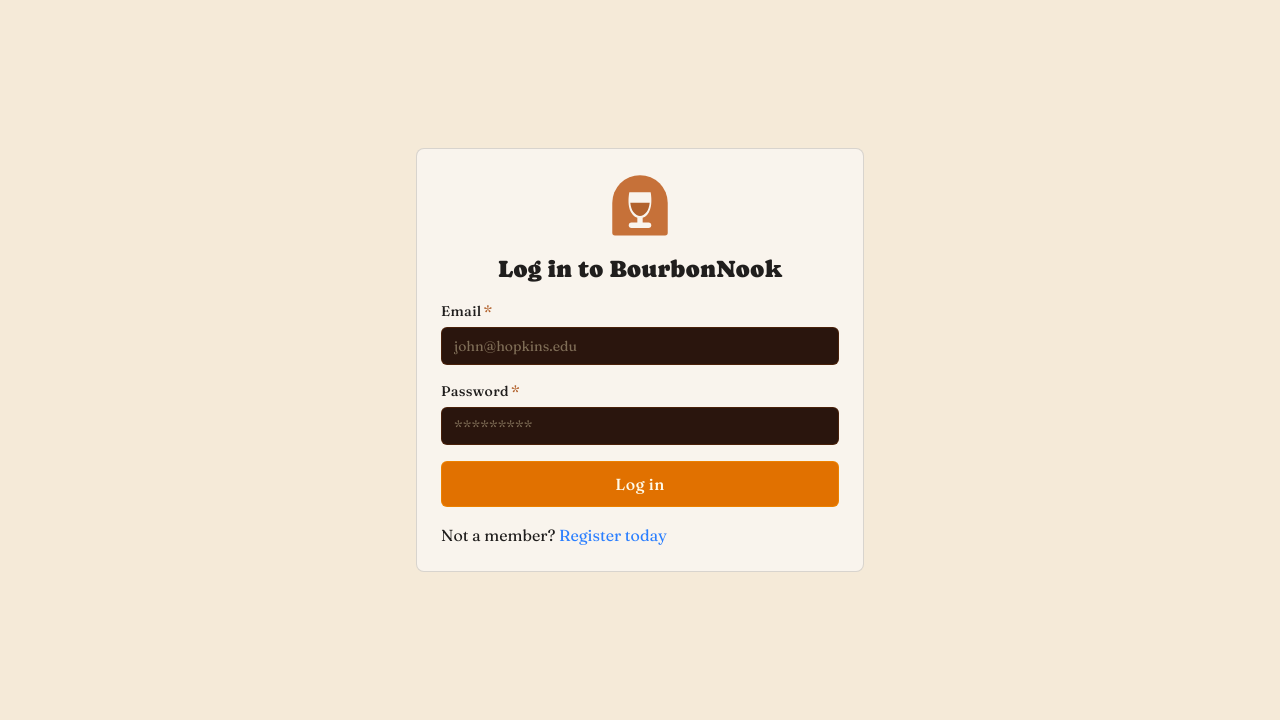
Login route › should test a valid login attempt
Type "peter@me.com" into the field labelled "Email*".
click(640, 346); type("peter@me.com")  # box [441,327,839,365]
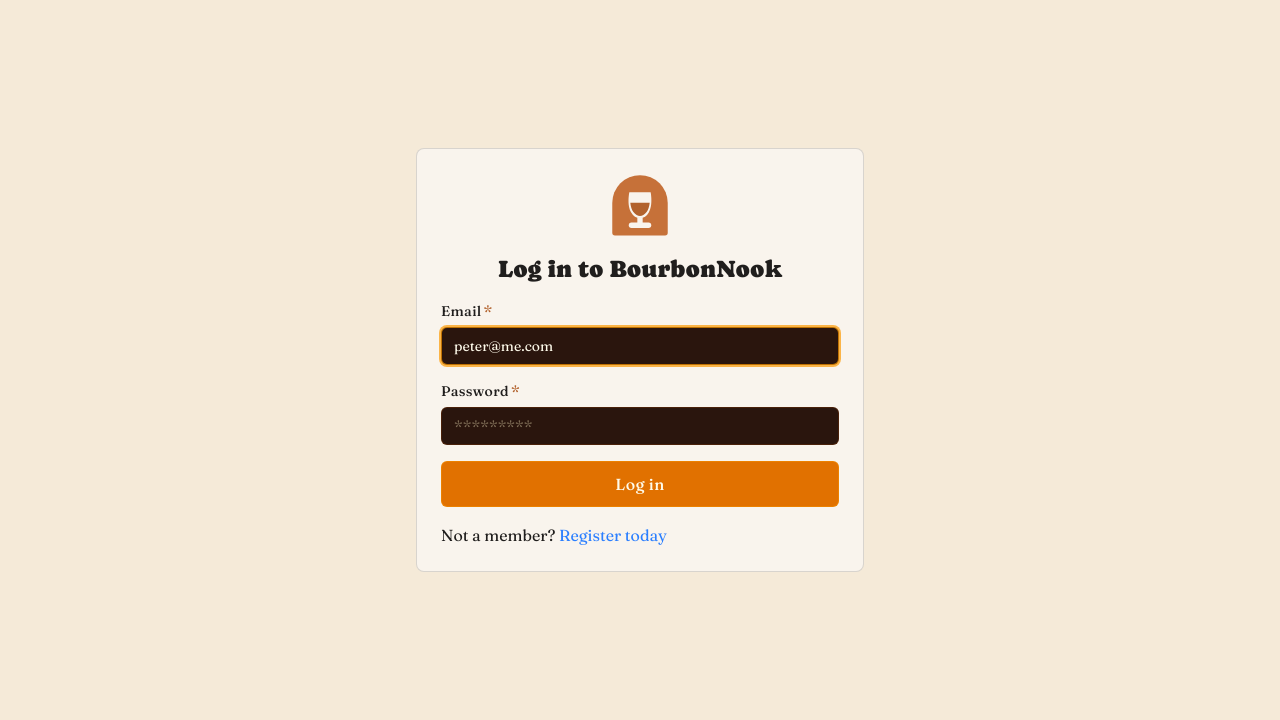
Type "mysecretpassword123!" into the password field labelled "Password*".
click(640, 426); type("mysecretpassword123!")  # box [441,407,839,445]
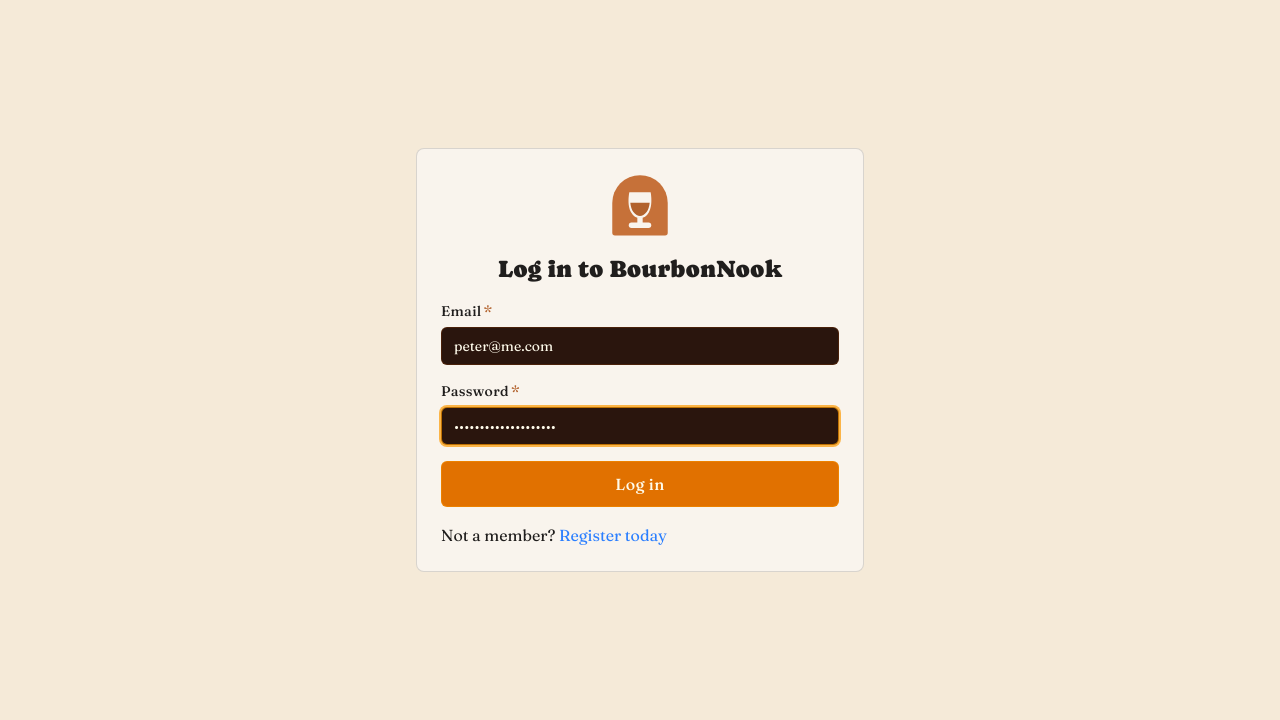
Click the button "Log in".
click(640, 484)  # box [441,461,839,507]
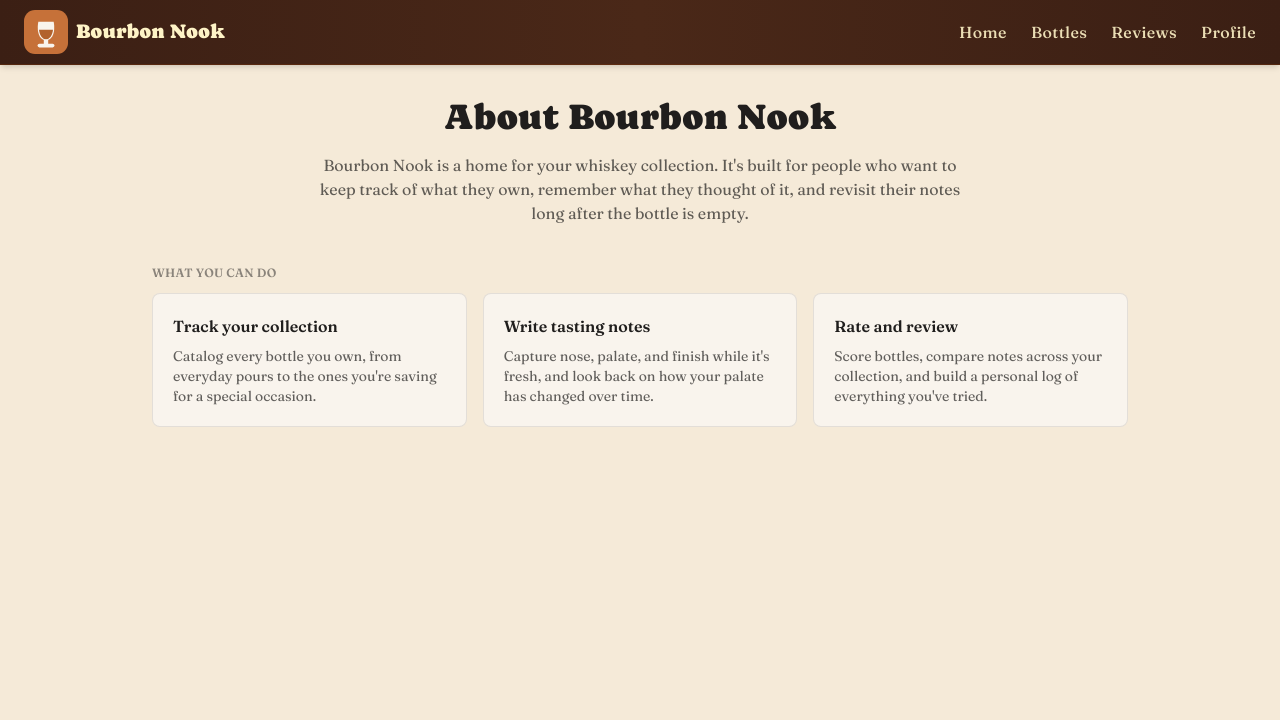
Expected: the heading "About Bourbon Nook" is shown, [444,96,836,137]
